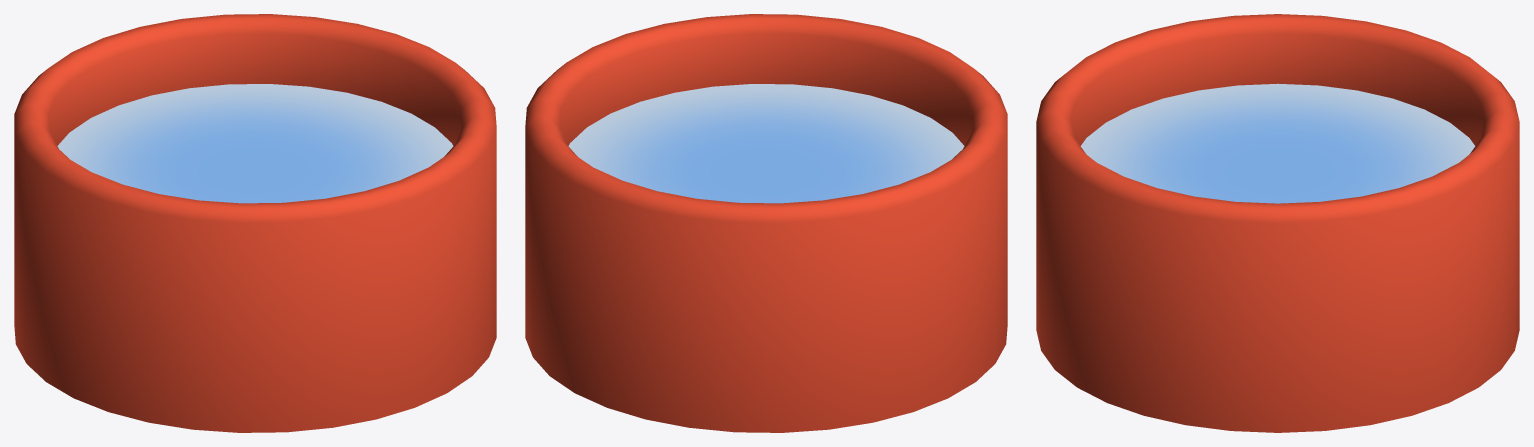
File: pool_2.fbx
The picture shows the model from 3 angles, left to right: view 1: azimuth 30°, elevation 25°; view 2: azimuth 150°, elevation 25°; view 3: azimuth 270°, elevation 25°; orthographic projection.
Visible parts, largest first — view 1: pool_2; view 2: pool_2; view 3: pool_2.
Boxes of the visible parts, left/top/right/bottom form: pool_2: left=14, top=14, right=496, bottom=432; pool_2: left=525, top=14, right=1007, bottom=432; pool_2: left=1036, top=14, right=1519, bottom=432.
Size of the model in its own units: 0.9292 by 0.4657 by 0.9292.
